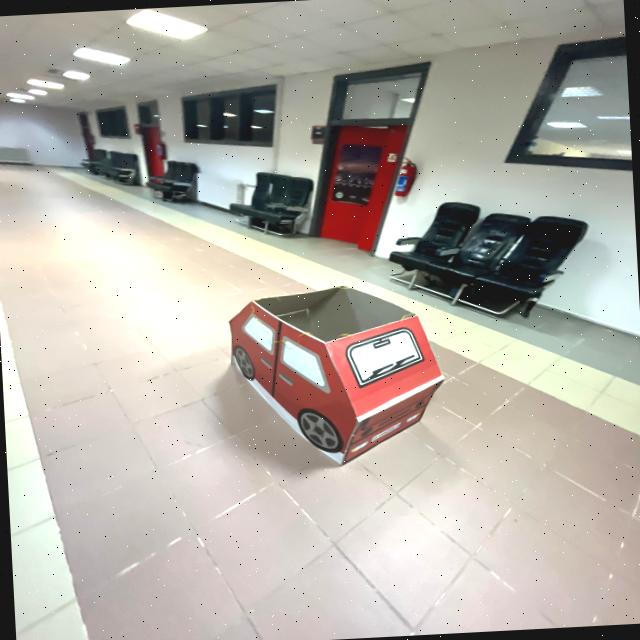red_car: (221, 274, 449, 477)
